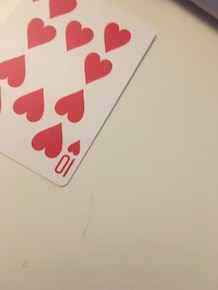TenOfHearts: (1, 1, 159, 188)
